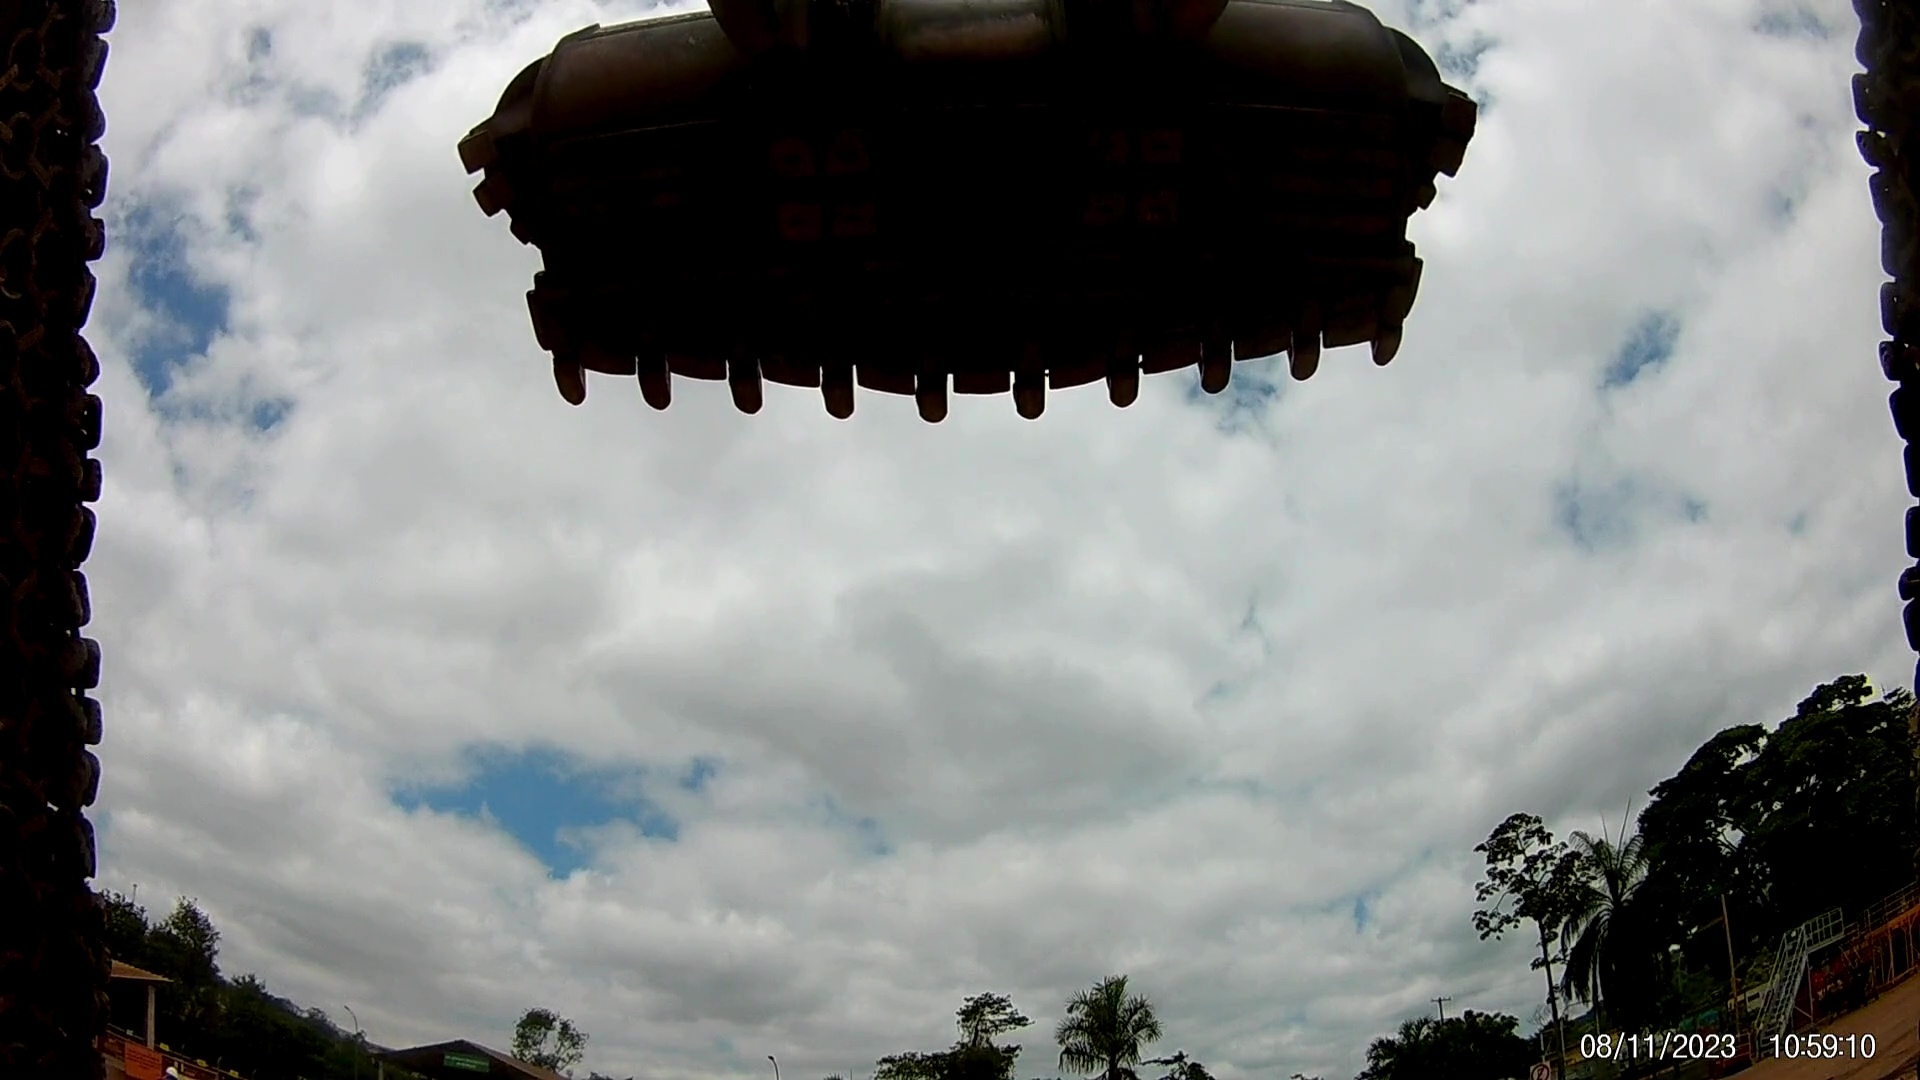FPS: (545, 334, 601, 417), (800, 357, 870, 425), (713, 355, 775, 419), (1280, 324, 1335, 388), (1013, 357, 1056, 434), (1104, 348, 1154, 410), (1192, 345, 1242, 405), (1373, 315, 1414, 378), (644, 348, 676, 422), (923, 357, 953, 436)
